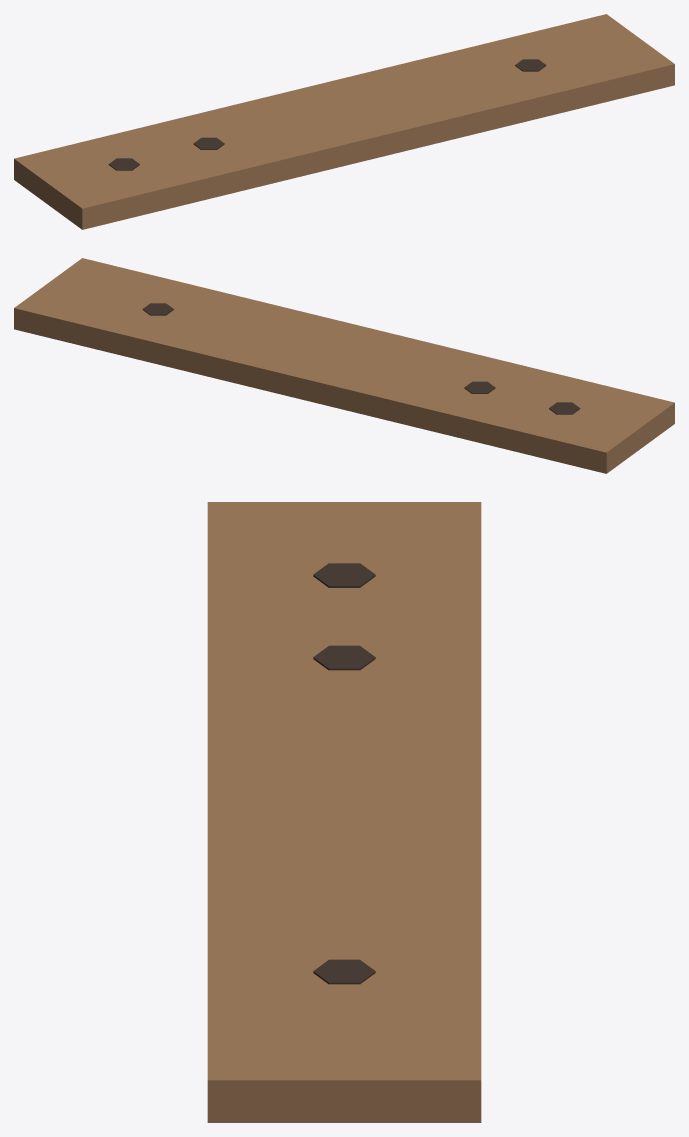
The model's file is prop-clasp-strap-blank.fbx.
3 renders of one model, top to bottom at view 1: azimuth 30°, elevation 25°; view 2: azimuth 150°, elevation 25°; view 3: azimuth 270°, elevation 25°, orthographic. The views are drawn at different scales.
Parts seen in each view (by area): view 1: prop-clasp-strap-blank; view 2: prop-clasp-strap-blank; view 3: prop-clasp-strap-blank.
Boxes of the visible parts, x1,y1,x2,y2 form: prop-clasp-strap-blank: (14,14,674,229); prop-clasp-strap-blank: (14,258,674,473); prop-clasp-strap-blank: (207,502,481,1122).
Size of the model in its own units: 7 by 0.25 by 1.4.
